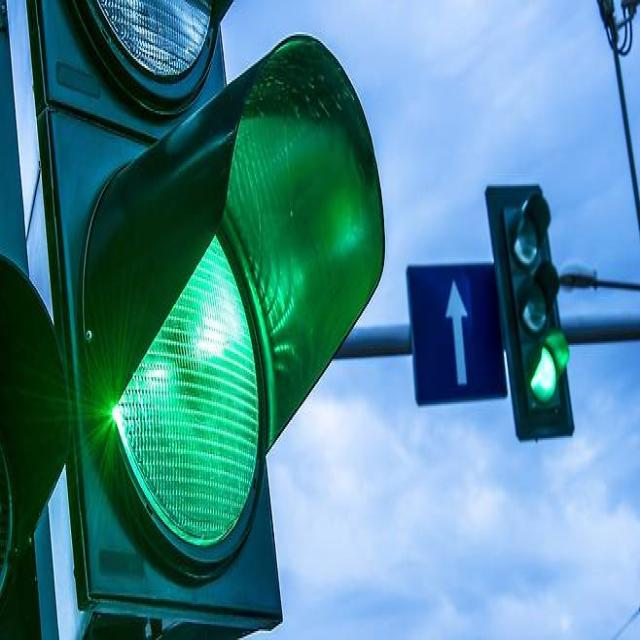Green_light: (33, 0, 384, 635), (490, 184, 577, 449)
